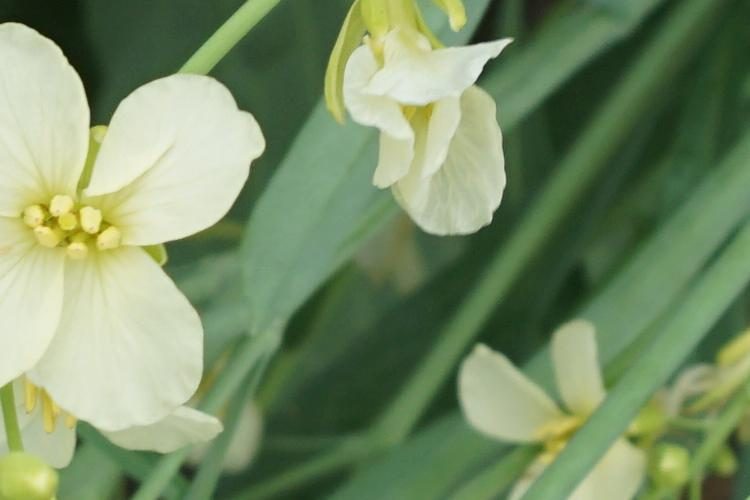white: (7, 19, 298, 446), (330, 20, 562, 250), (481, 308, 658, 494)
